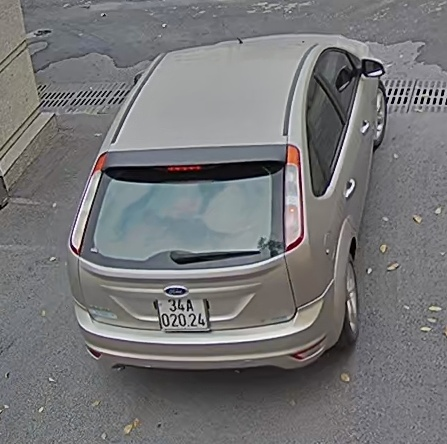vehicle plate: (156, 291, 215, 334)
